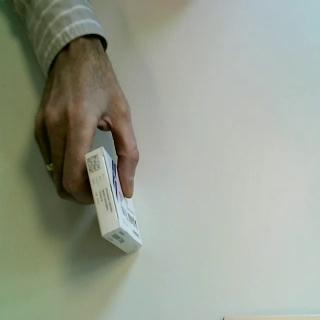oxycontin15mg: (84, 146, 144, 258)
